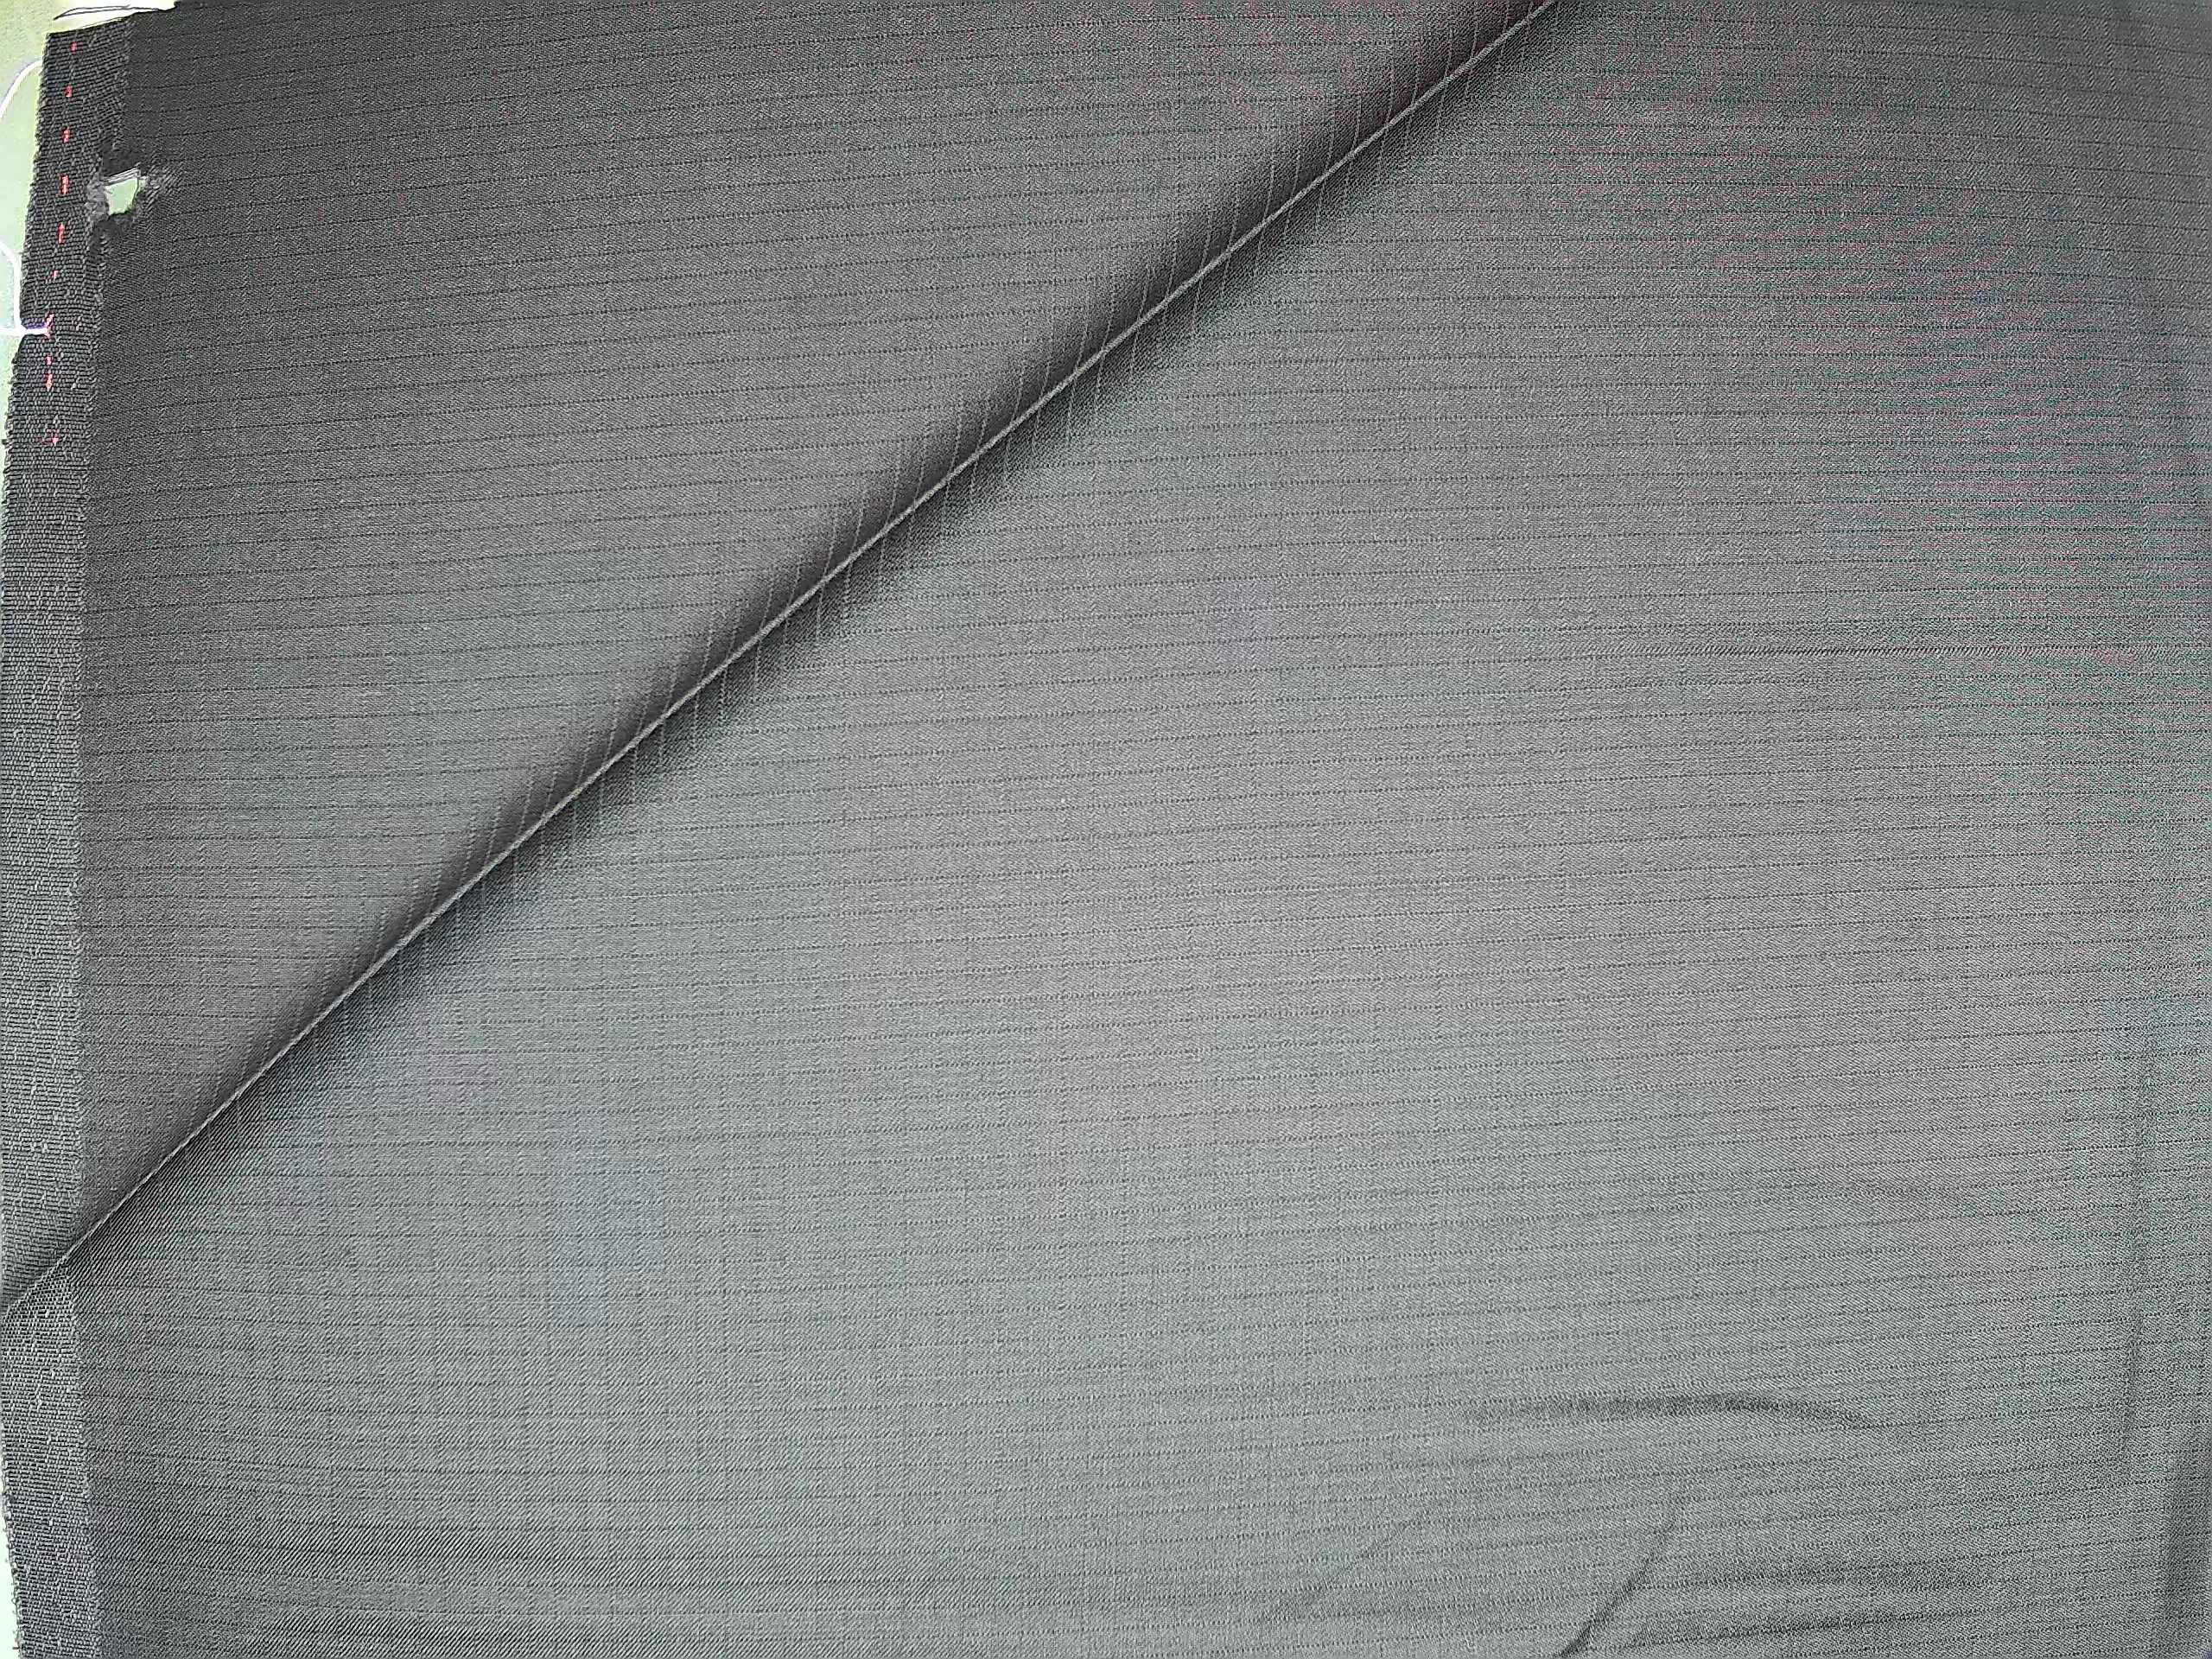brushed-hole: (68, 139, 192, 251)
